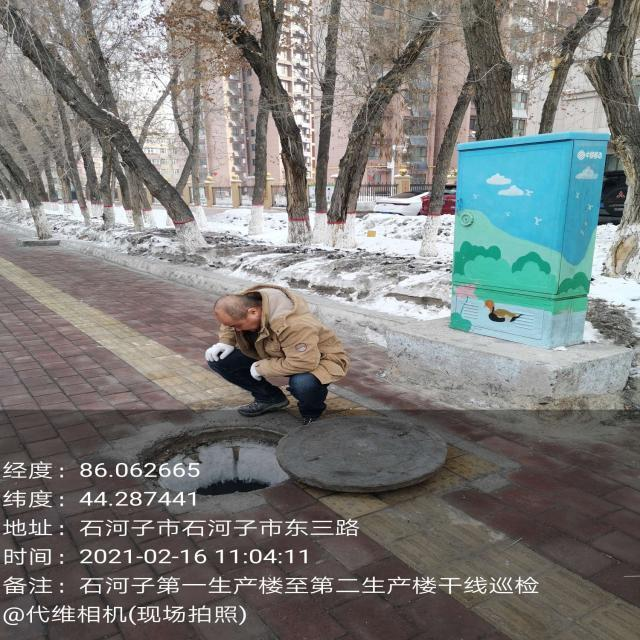manhole: (149, 429, 289, 495)
